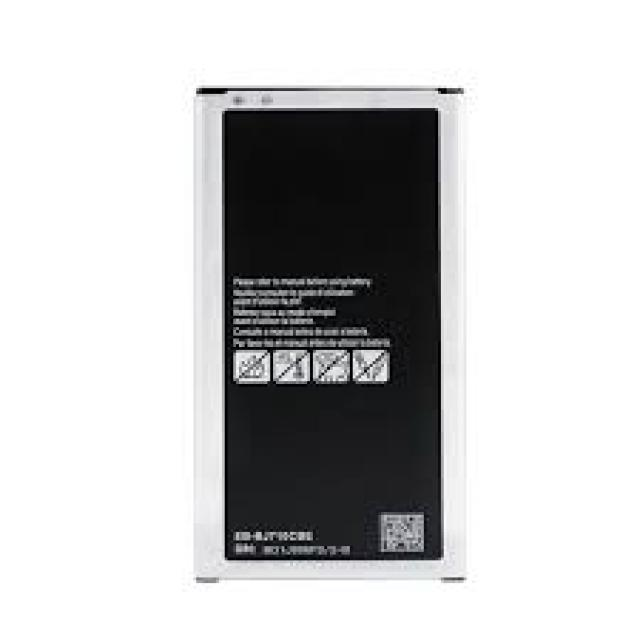non-organic waste: (195, 84, 466, 581)
